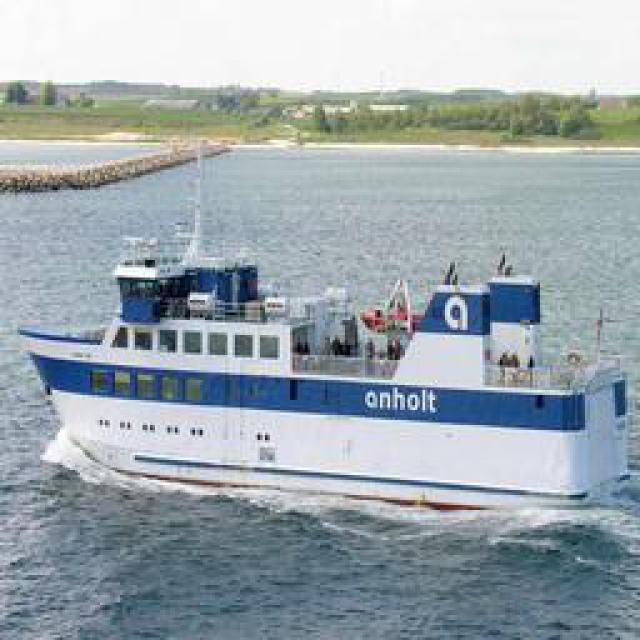Ship: (17, 213, 627, 511)
